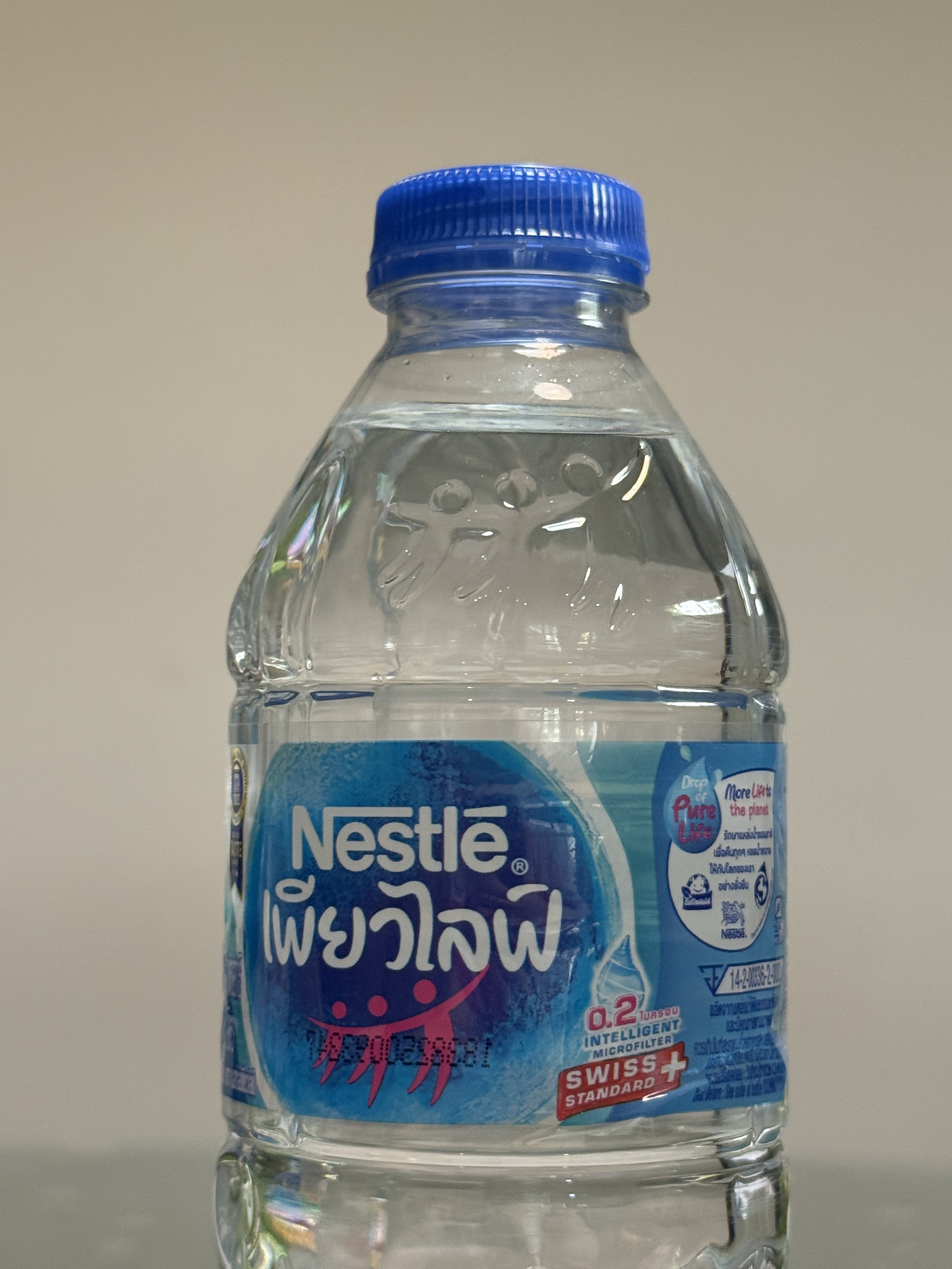closed_cap: (362, 159, 654, 312)
